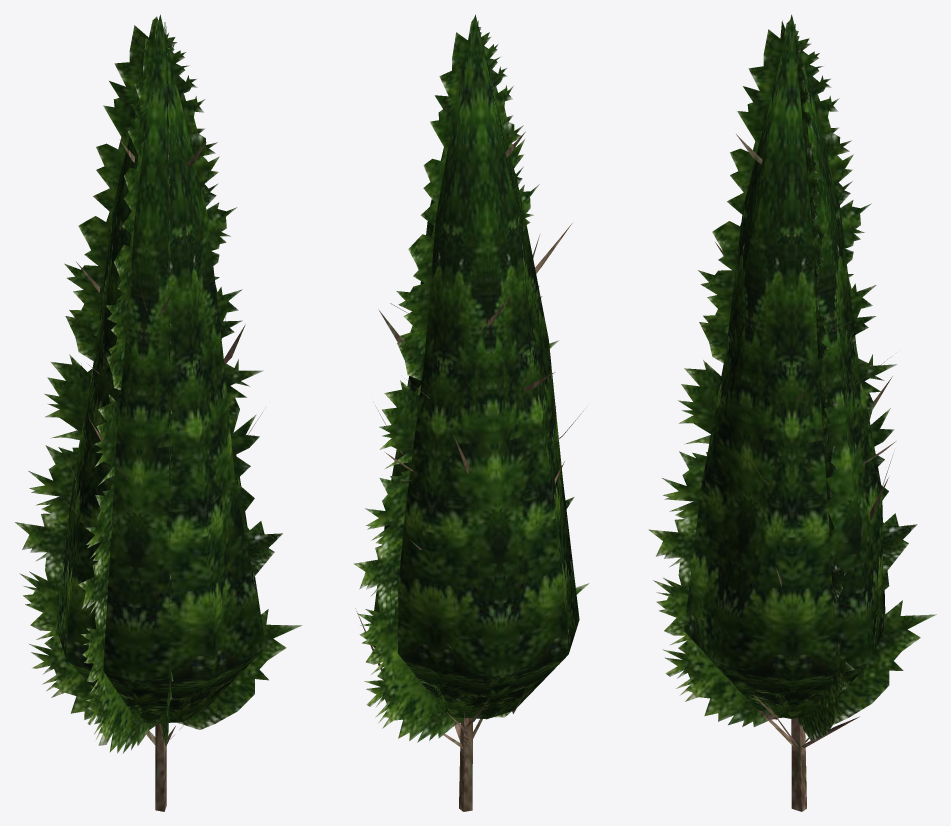
The model's file is cay-thong.glb.
The picture shows the model from 3 angles, left to right: view 1: azimuth 30°, elevation 25°; view 2: azimuth 150°, elevation 25°; view 3: azimuth 270°, elevation 25°; orthographic projection.
Parts seen in each view (by area): view 1: CayThong; view 2: CayThong; view 3: CayThong.
Boxes of the visible parts, x1,y1,x2,y2 form: CayThong: [15, 14, 301, 811]; CayThong: [353, 14, 589, 811]; CayThong: [648, 14, 936, 811].
Size of the model in its own units: 1.27 by 4.28 by 1.41.
1 material, 1 textured.
